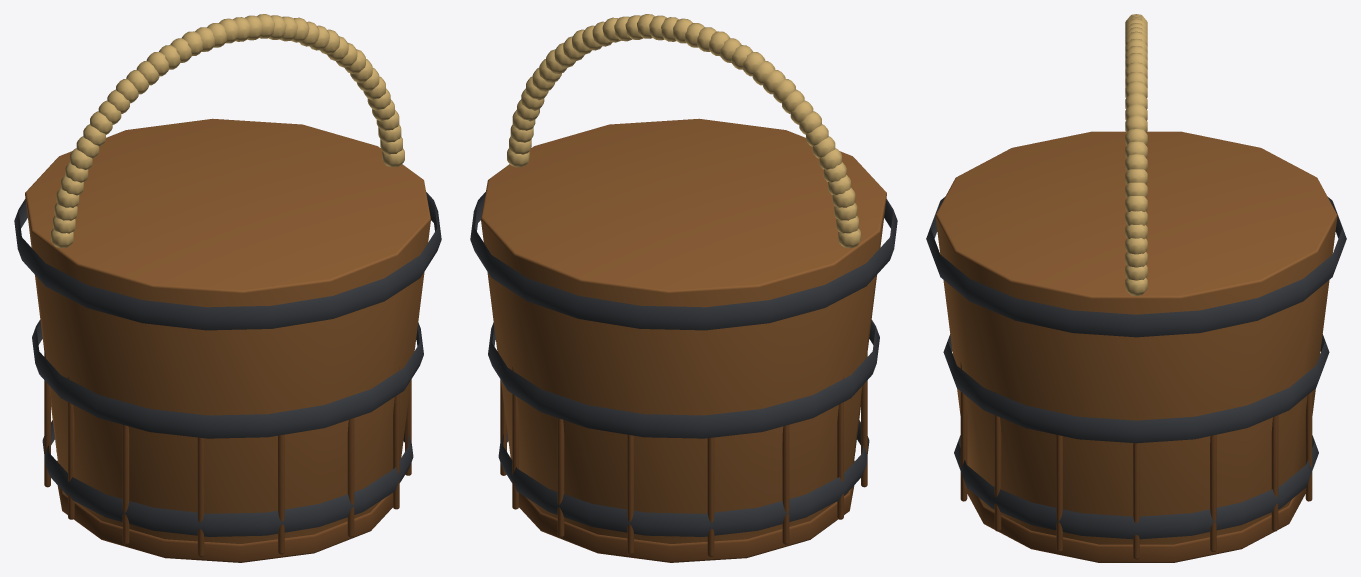
File: balde_madeira.glb
The picture shows the model from 3 angles, left to right: view 1: azimuth 30°, elevation 25°; view 2: azimuth 150°, elevation 25°; view 3: azimuth 270°, elevation 25°; orthographic projection. The views are drawn at different scales.
Parts seen in each view (by area): view 1: balde_madeira; view 2: balde_madeira; view 3: balde_madeira.
Part boxes in pixels (box(x1,y1,x2,y2)): balde_madeira: box(14, 14, 441, 562); balde_madeira: box(470, 14, 897, 562); balde_madeira: box(926, 14, 1346, 562).
Bounding box in the file's own units: 0.606 × 0.733 × 0.606.
